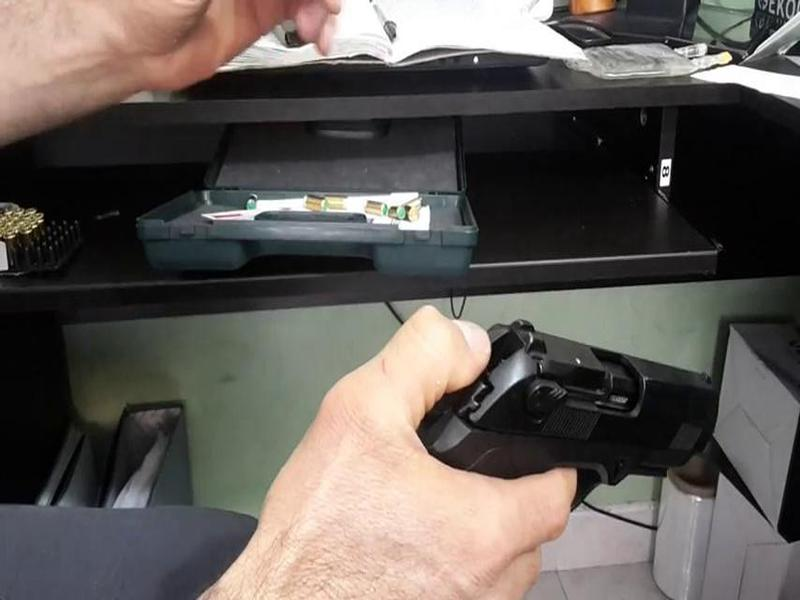Pistola: (398, 302, 757, 524)
